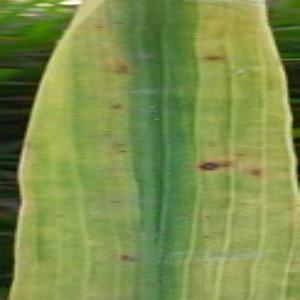Brown_Spot: (110, 249, 145, 268), (198, 49, 226, 66), (197, 157, 222, 175), (109, 62, 133, 78), (248, 165, 264, 179), (106, 100, 124, 112), (219, 157, 235, 170), (204, 139, 221, 151), (132, 174, 148, 185), (102, 128, 115, 141), (52, 210, 68, 220), (107, 198, 124, 205), (282, 204, 295, 213), (233, 151, 247, 159), (263, 211, 275, 220), (222, 197, 233, 204), (201, 233, 211, 240), (96, 24, 105, 31), (203, 214, 213, 220), (118, 149, 128, 154)
